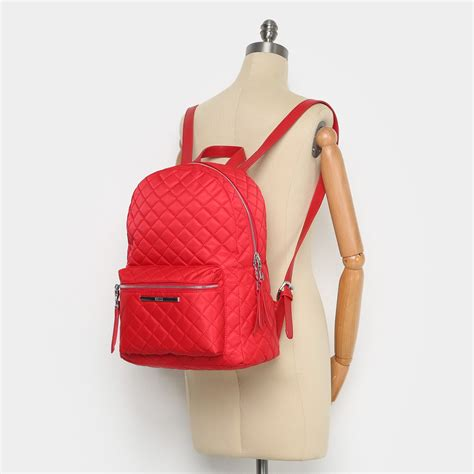nylon: (116, 100, 340, 372)
